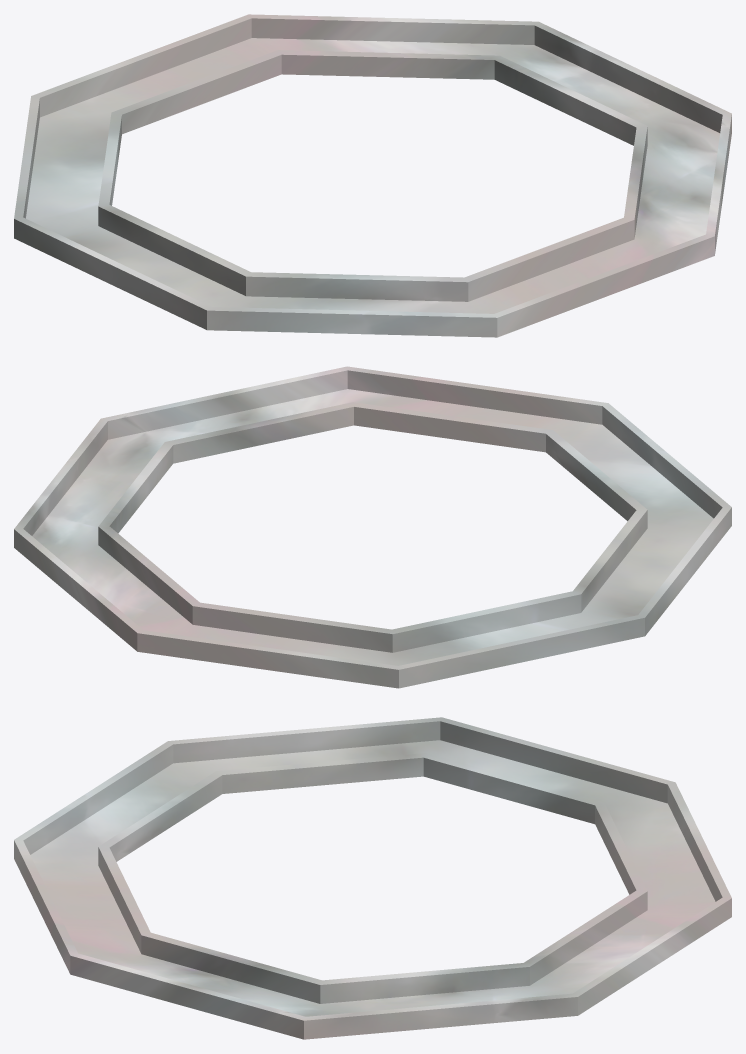
The model's file is TheOctagon_Floor_3.gltf.
3 views of the same model, one above another, from view 1: azimuth 30°, elevation 25°; view 2: azimuth 150°, elevation 25°; view 3: azimuth 270°, elevation 25° (orthographic). The views are drawn at different scales.
Visible parts, largest first — view 1: TheOctagon_Floor_3; view 2: TheOctagon_Floor_3; view 3: TheOctagon_Floor_3.
Part boxes in pixels (x1,y1,x2,y2): TheOctagon_Floor_3: (14,14,731,337); TheOctagon_Floor_3: (14,366,731,688); TheOctagon_Floor_3: (14,717,731,1039).
Size of the model in its own units: 81.92 by 2.39 by 81.92.
1 material, 1 textured.
